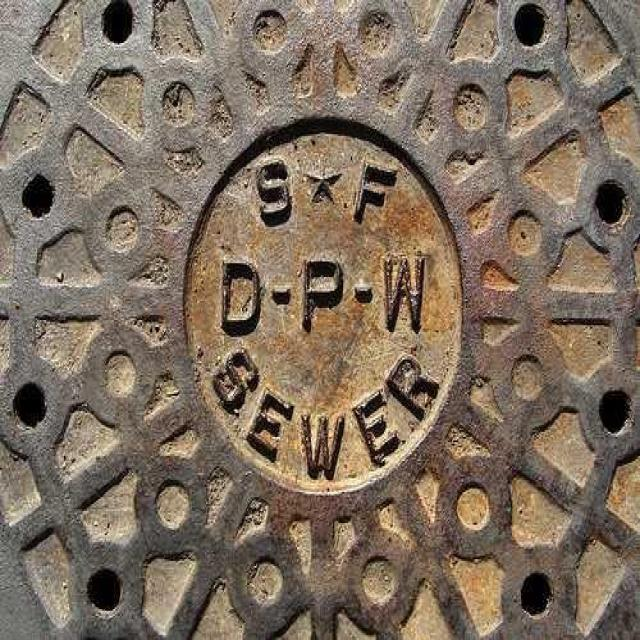manhole: (0, 2, 640, 640)
